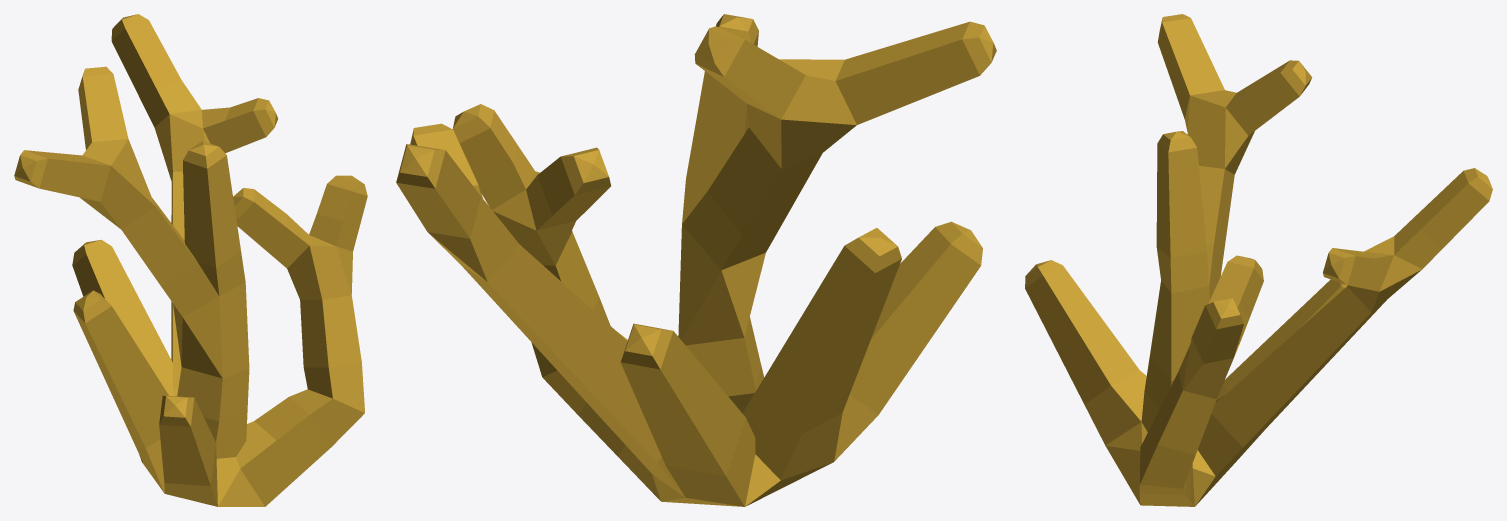
File: Coral 4.glb
The picture shows the model from 3 angles, left to right: view 1: azimuth 30°, elevation 25°; view 2: azimuth 150°, elevation 25°; view 3: azimuth 270°, elevation 25°; orthographic projection. The views are drawn at different scales.
Parts seen in each view (by area): view 1: Cube; view 2: Cube; view 3: Cube.
Part boxes in pixels (x1,y1,x2,y2): Cube: (14, 14, 367, 506); Cube: (396, 14, 996, 506); Cube: (1025, 14, 1492, 506).
Bounding box in the file's own units: 1.53 × 1.58 × 1.69.
